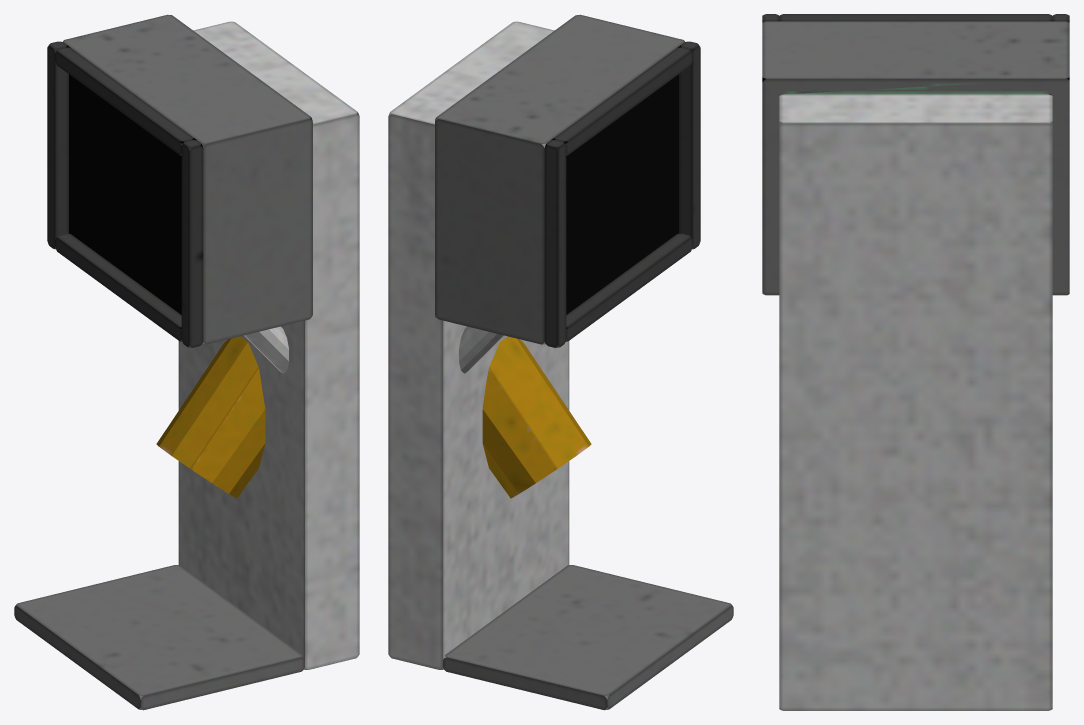
The model's file is RationMachine.fbx.
3 renders of one model, left to right at view 1: azimuth 30°, elevation 25°; view 2: azimuth 150°, elevation 25°; view 3: azimuth 270°, elevation 25°, orthographic. The views are drawn at different scales.
Parts seen in each view (by area): view 1: cuboid; view 2: cuboid; view 3: cuboid.
Part boxes in pixels (left/top/right/bottom): cuboid: left=14, top=14, right=359, bottom=710; cuboid: left=388, top=14, right=733, bottom=710; cuboid: left=762, top=14, right=1069, bottom=710.
Bounding box in the file's own units: 100 × 244 × 112.
1 material, 1 textured.
